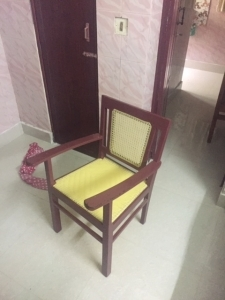chair: (26, 95, 171, 277)
